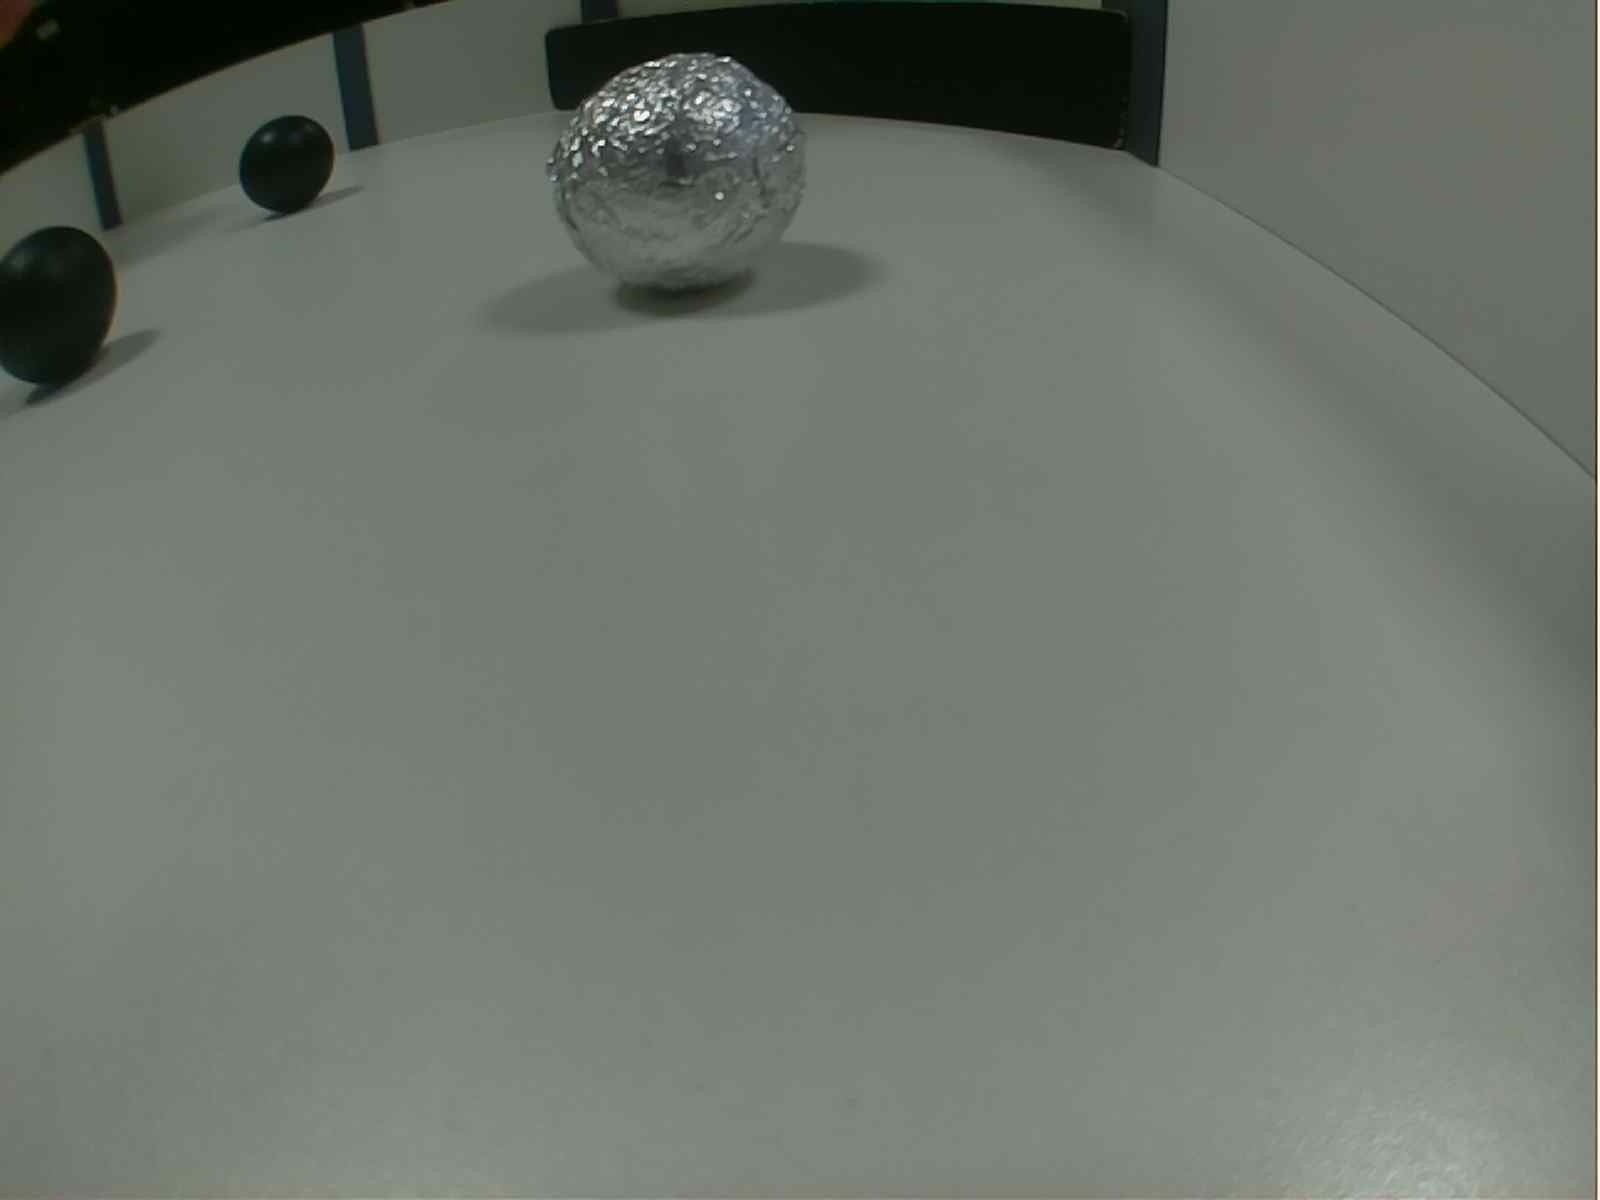bianca: (544, 52, 808, 296)
nera: (1, 219, 120, 392), (239, 113, 338, 222)
